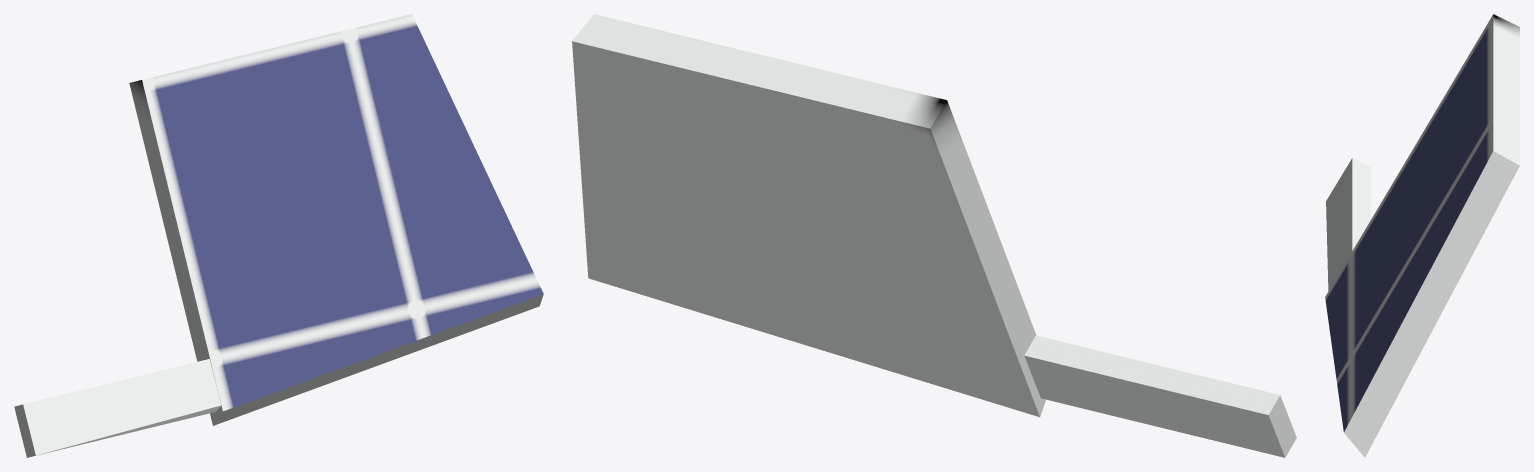
File: Fragment005.fbx
3 renders of one model, left to right at view 1: azimuth 30°, elevation 25°; view 2: azimuth 150°, elevation 25°; view 3: azimuth 270°, elevation 25°, orthographic. The views are drawn at different scales.
Visible parts, largest first — view 1: SatelliteFrag.005; view 2: SatelliteFrag.005; view 3: SatelliteFrag.005.
Part boxes in pixels (box(x1,y1,x2,y2)): SatelliteFrag.005: box(14, 14, 543, 457); SatelliteFrag.005: box(572, 14, 1296, 457); SatelliteFrag.005: box(1325, 14, 1519, 457).
Bounding box in the file's own units: 208 × 112 × 64.62.
